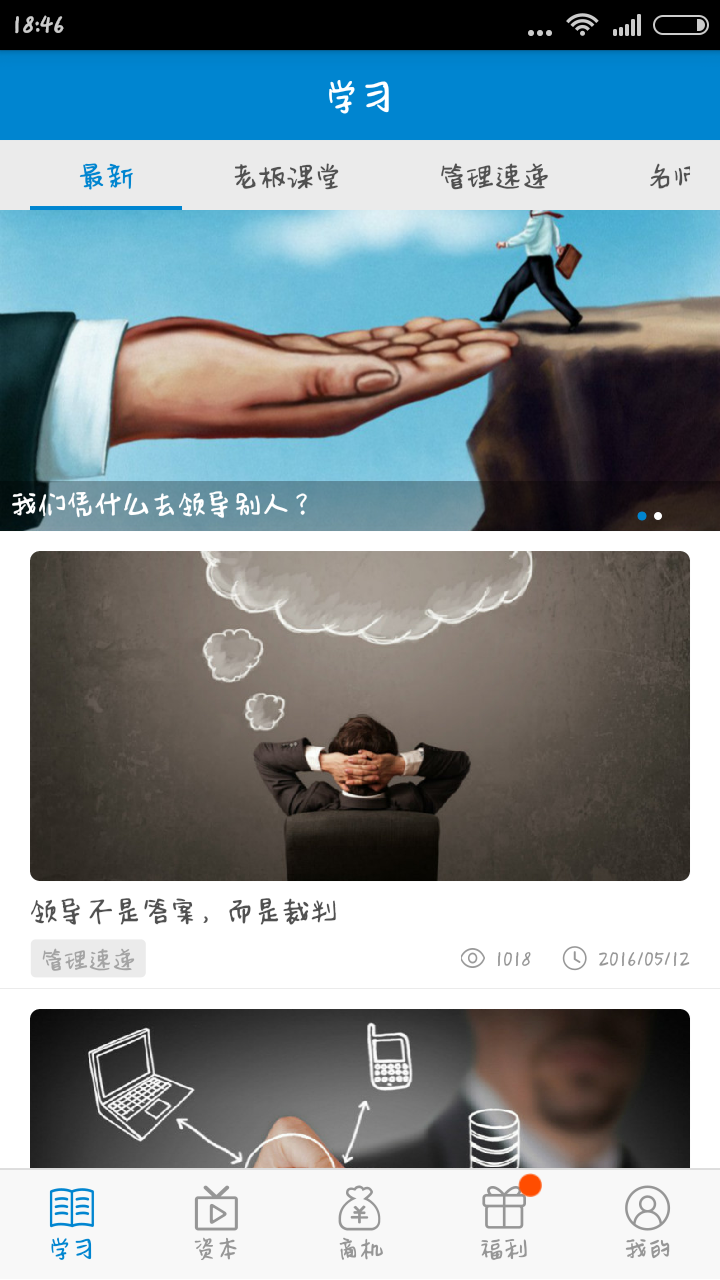imgview: (29, 546, 693, 888)
nav: (1, 1165, 720, 1276)
